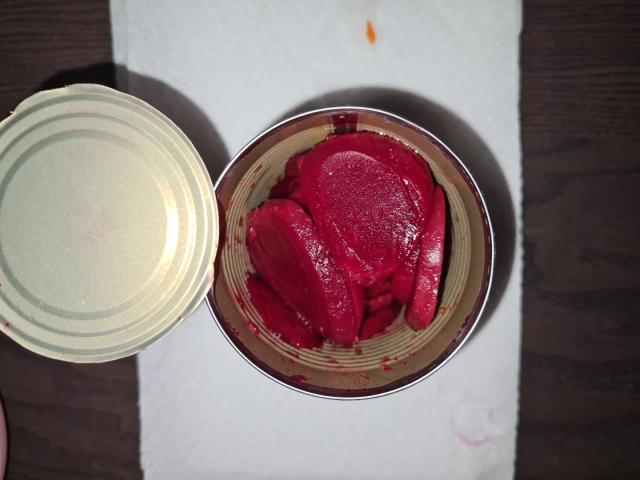kichen waste: (247, 134, 446, 348)
